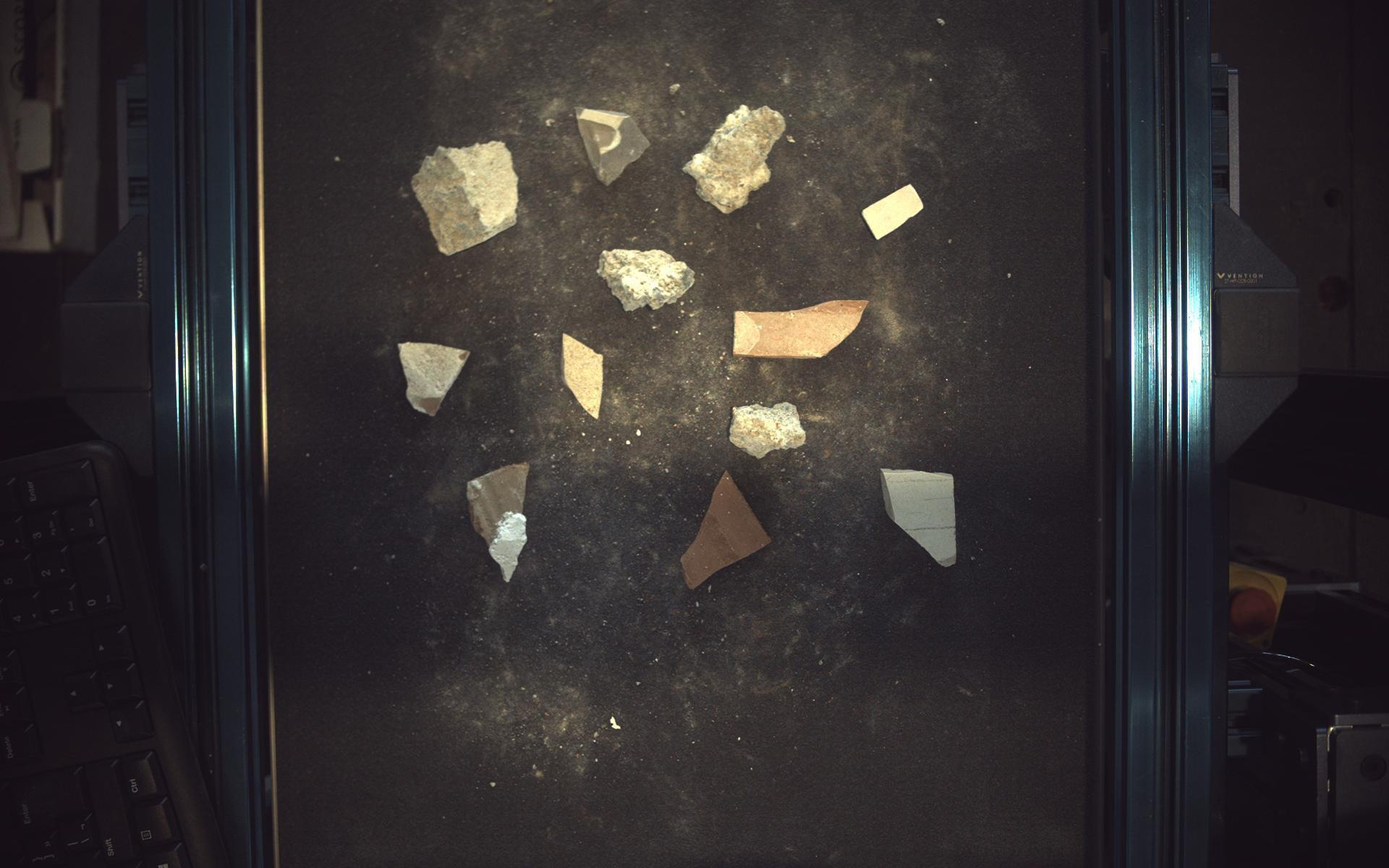brick: (682, 472, 772, 590), (736, 300, 870, 358), (467, 463, 530, 583), (399, 341, 470, 417)
concrete: (412, 140, 518, 255), (684, 104, 787, 213), (599, 249, 694, 310), (731, 402, 807, 459)
tile: (884, 469, 959, 568), (576, 106, 650, 184), (563, 334, 603, 419), (865, 184, 925, 239)
